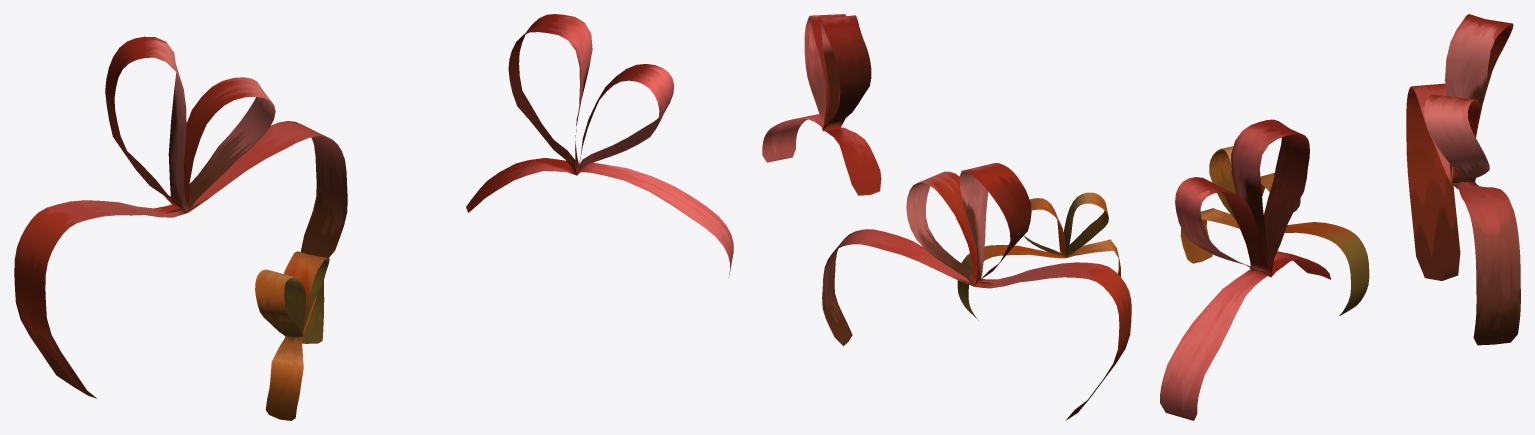
File: rubans.obj
The picture shows the model from 3 angles, left to right: view 1: azimuth 30°, elevation 25°; view 2: azimuth 150°, elevation 25°; view 3: azimuth 270°, elevation 25°; orthographic projection. The views are drawn at different scales.
Visible parts, largest first — view 1: ruban1, ruban3, ruban2; view 2: ruban1, ruban3, ruban2; view 3: ruban1, ruban3, ruban2.
Boxes of the visible parts, box(x1,y1,x2,y2) form: ruban1: box(14, 36, 347, 398); ruban3: box(466, 14, 733, 277); ruban2: box(255, 251, 329, 420); ruban1: box(822, 163, 1131, 420); ruban3: box(762, 14, 881, 195); ruban2: box(957, 192, 1120, 320); ruban1: box(1406, 14, 1520, 345); ruban3: box(1160, 119, 1330, 420); ruban2: box(1180, 146, 1369, 315).
Size of the model in its own units: 781 by 440 by 439.
Materials: 3 (3 with a texture image).
